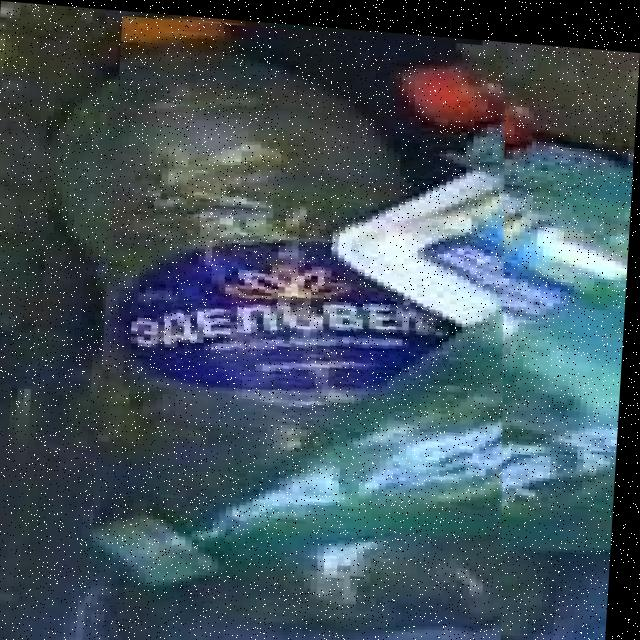litter: (93, 13, 536, 640)
